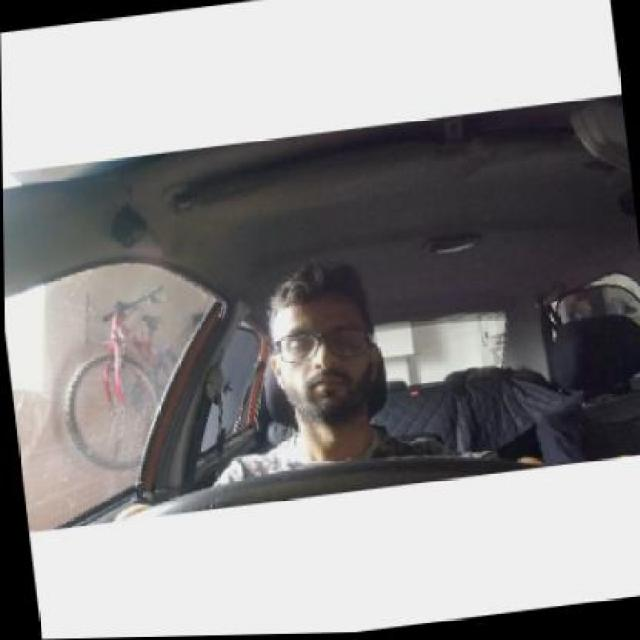drowsy: (262, 263, 396, 437)
